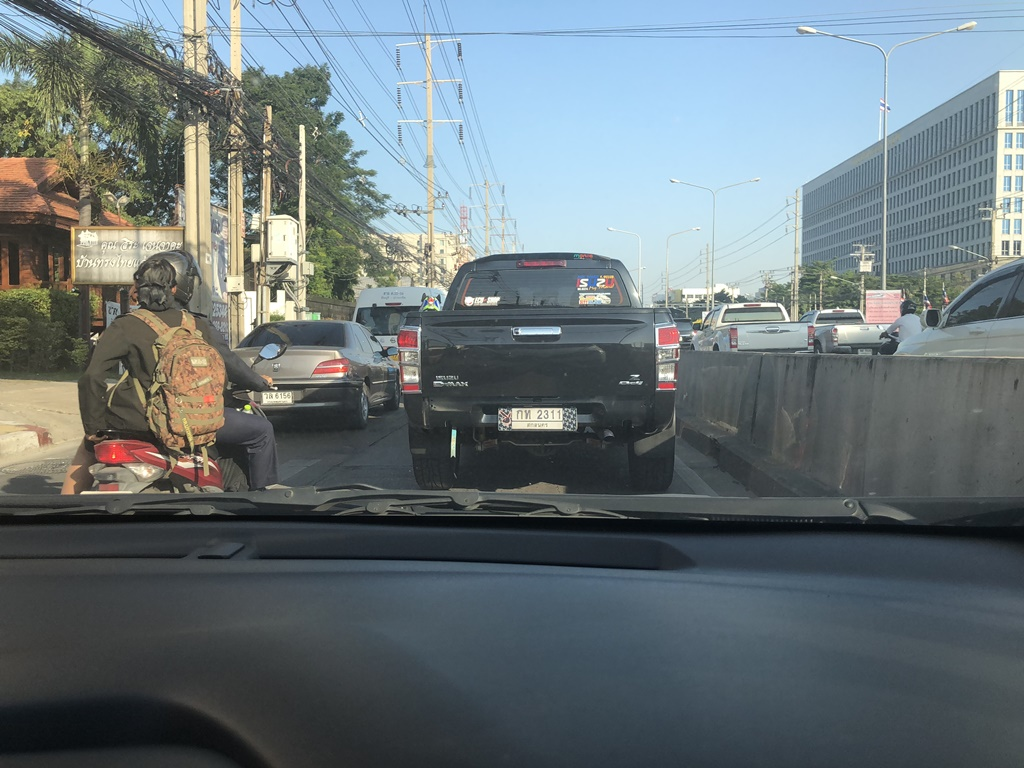plate: (489, 402, 581, 435)
